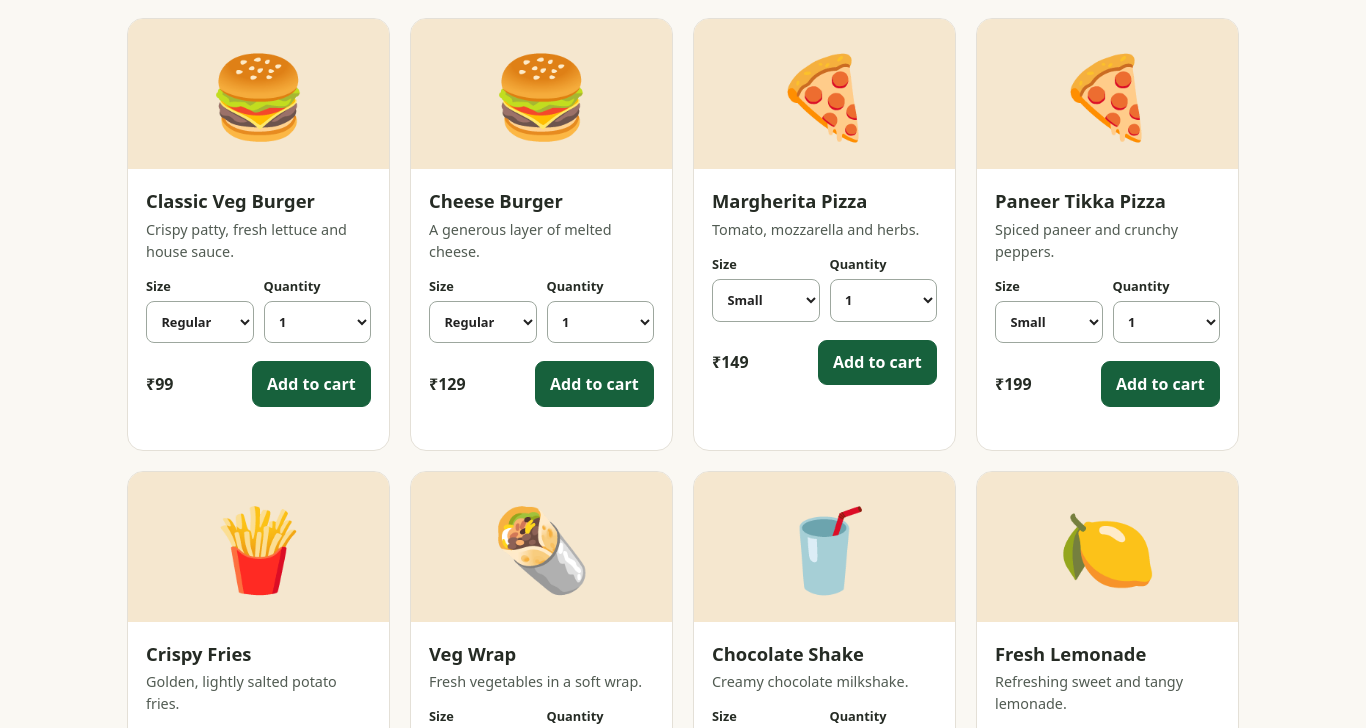
Test: cart merges items, updates quantity and places demo order
The image size is (1366, 728).
(page scrolled)
Click the button "Add to cart" below "Classic Veg Burger" at {"x": 311, "y": 384}, box [252, 361, 371, 407]
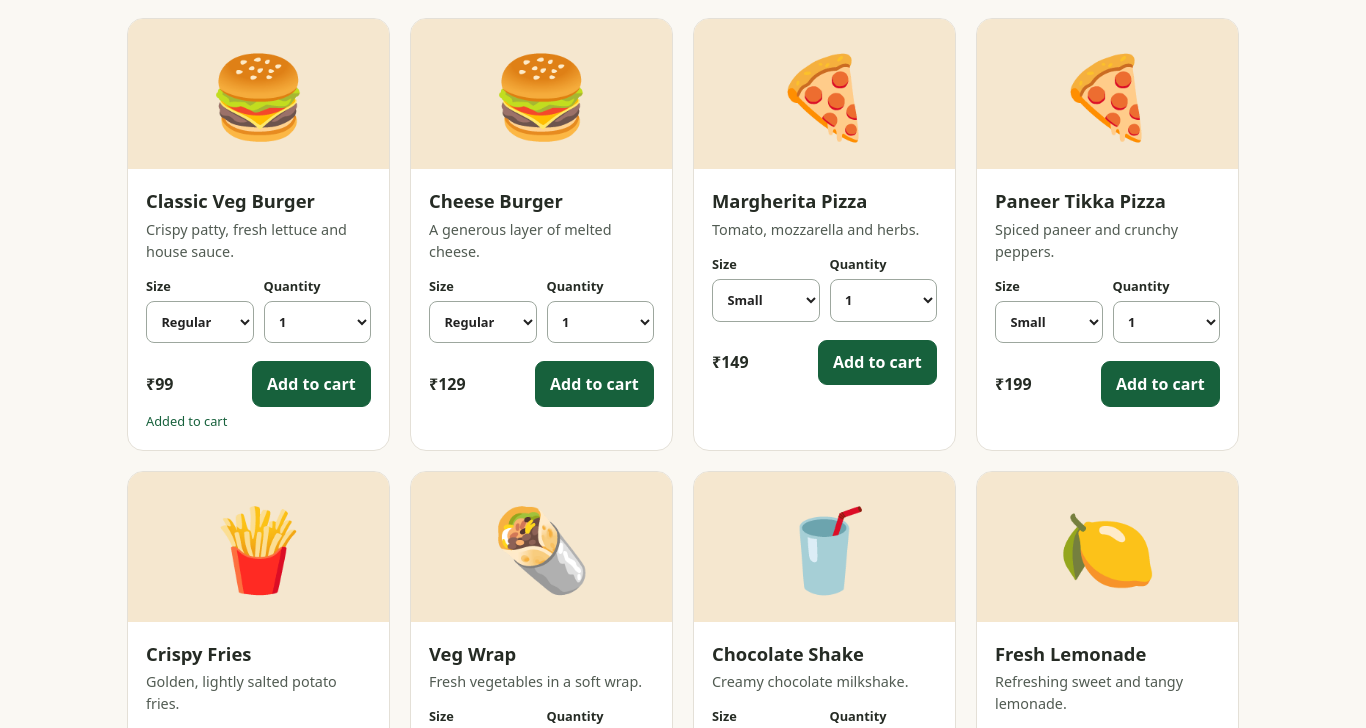
Click the button "Add to cart" below "Classic Veg Burger" at {"x": 311, "y": 384}, box [252, 361, 371, 407]
(page scrolled)
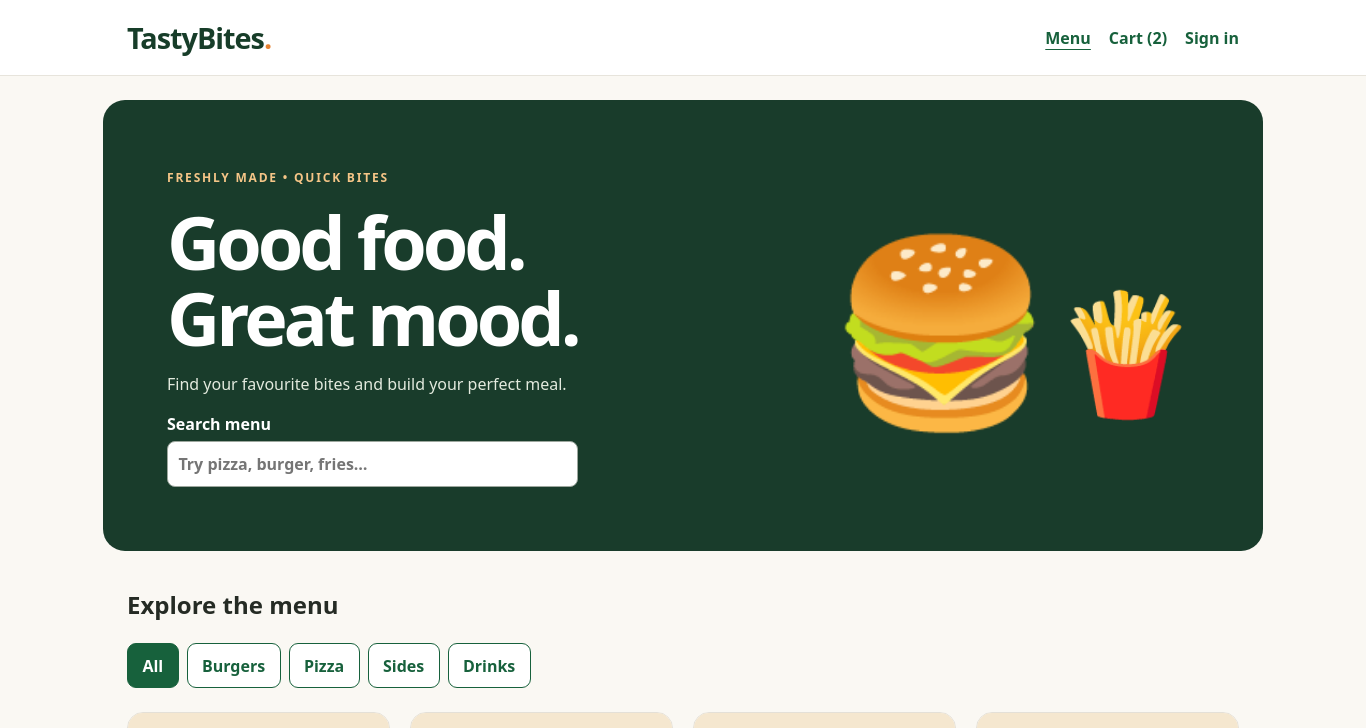
Click the link "Cart (2)" at {"x": 1138, "y": 38}, box [1109, 26, 1167, 50]
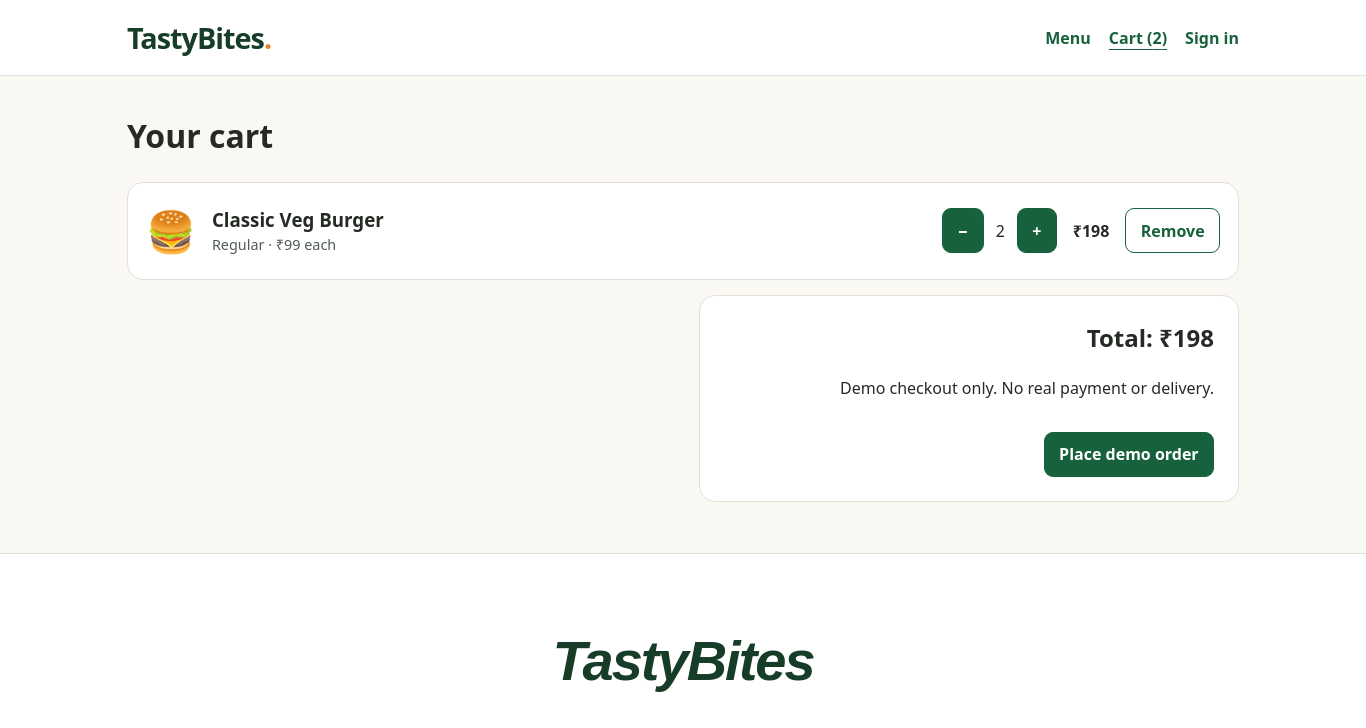
Check: the heading "Total: ₹198" is shown, box [1087, 321, 1214, 354]
Click the button named "Increase Classic" at {"x": 1037, "y": 231}, box [1017, 208, 1057, 253]
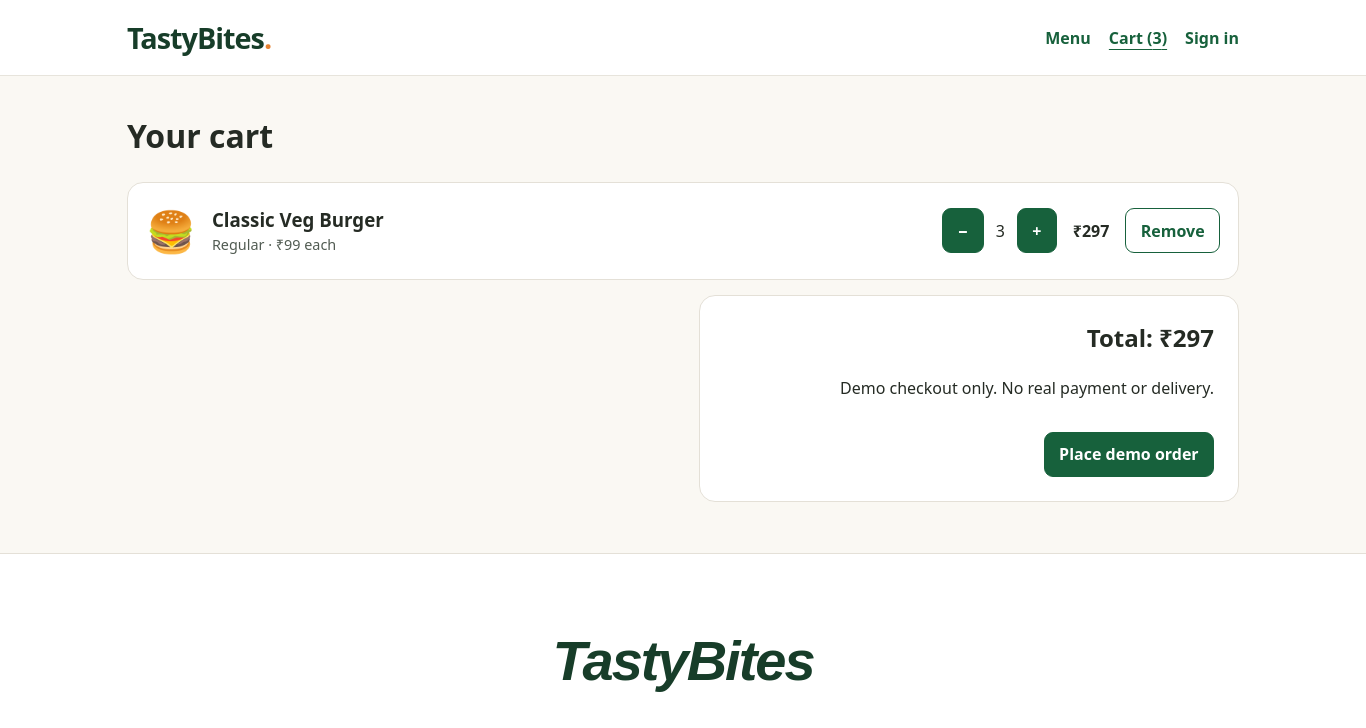
Check: the heading "Total: ₹297" is shown, box [1087, 321, 1214, 354]
Click the button "Place demo order" at {"x": 1129, "y": 454}, box [1044, 432, 1214, 477]
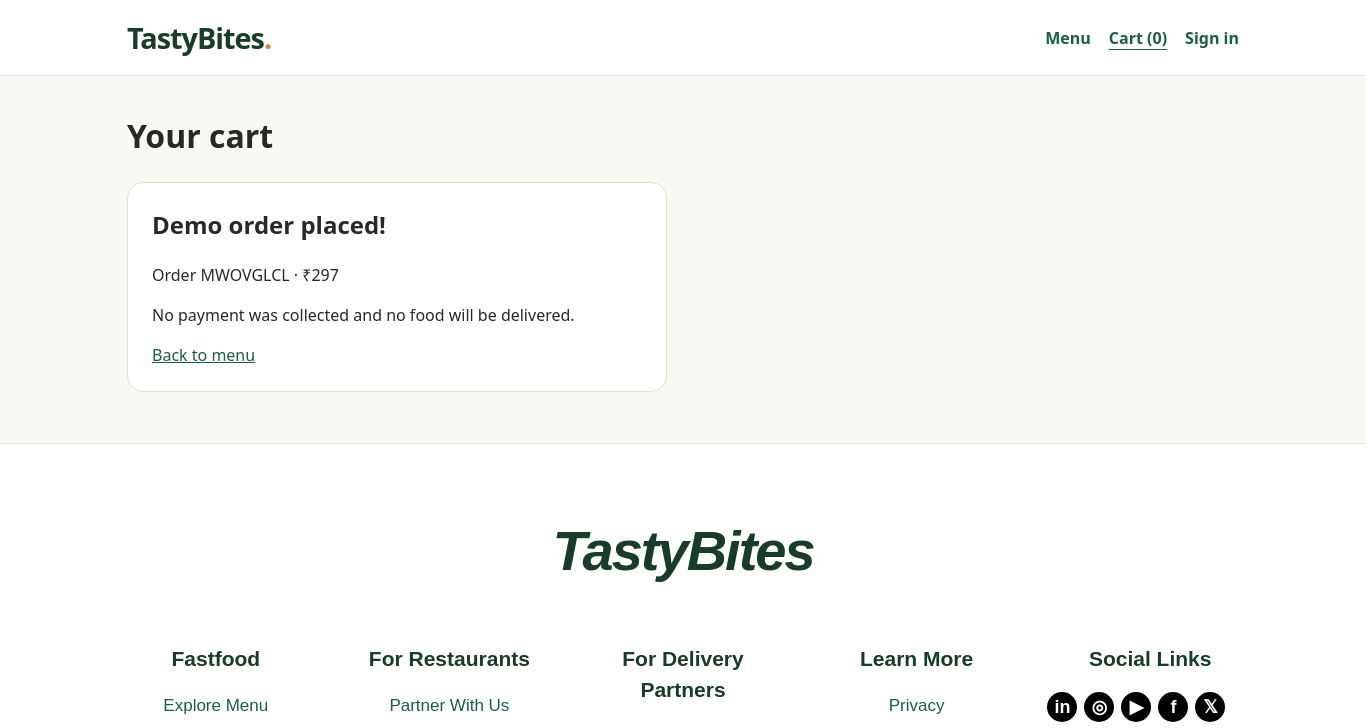
Check: the heading "Demo order placed!" is shown, box [152, 208, 386, 241]
Check: the link "Cart (0)" is shown, box [1109, 26, 1167, 50]
